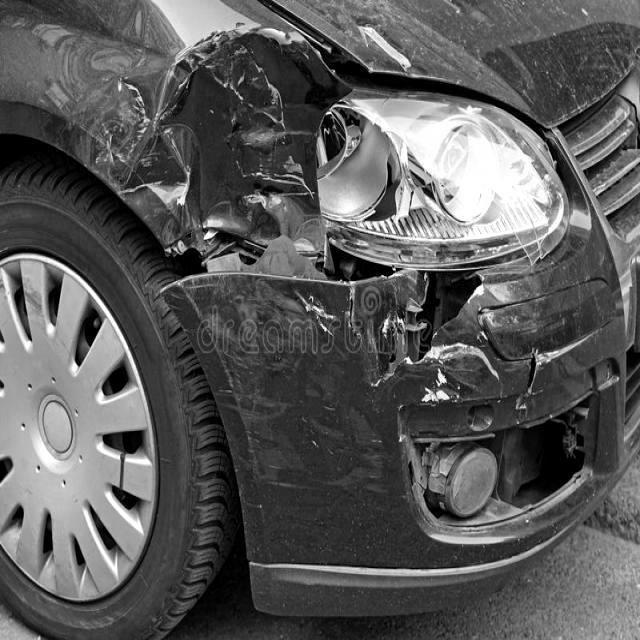Headlight-damage: (287, 92, 565, 245)
bonnet-dent: (274, 0, 640, 128)
fender-dent: (0, 0, 296, 412)
front-bumper-dent: (172, 244, 637, 628)
